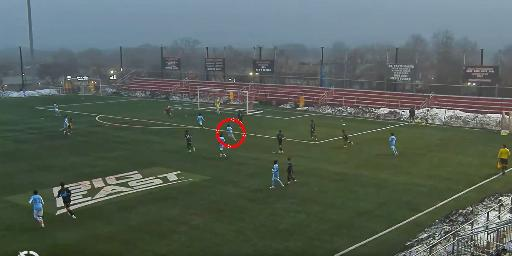highlight_overlay: (215, 117, 247, 150)
